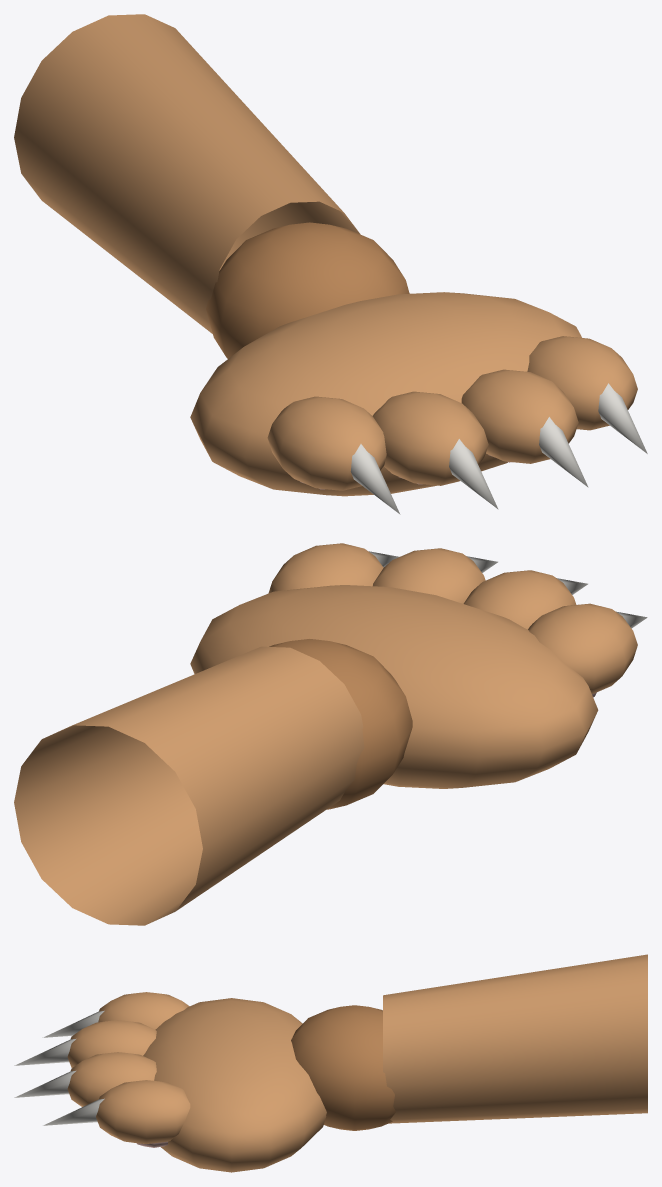
Rendered from pata-gato.glb.
3 renders of one model, top to bottom at view 1: azimuth 30°, elevation 25°; view 2: azimuth 150°, elevation 25°; view 3: azimuth 270°, elevation 25°, orthographic. The views are drawn at different scales.
Visible parts, largest first — view 1: pata-gato; view 2: pata-gato; view 3: pata-gato.
Part boxes in pixels (x1=…): pata-gato: x1=14, y1=14, x2=647, y2=514; pata-gato: x1=14, y1=543, x2=647, y2=925; pata-gato: x1=14, y1=954, x2=647, y2=1172.
Bounding box in the file's own units: 0.17 × 0.104 × 0.335.
